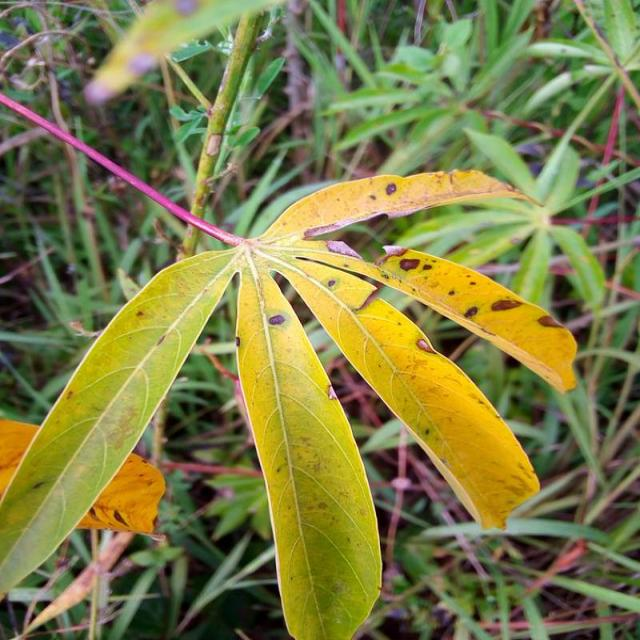cassava leaf: (0, 159, 578, 637)
